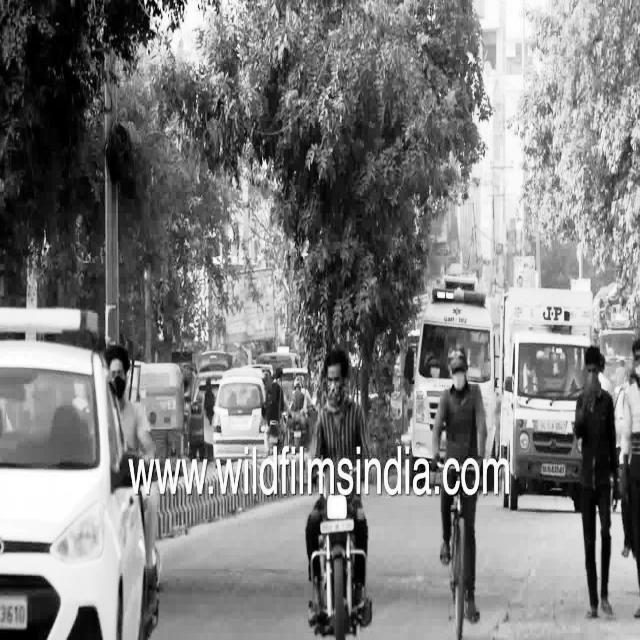Ambulance: (403, 276, 495, 460)
